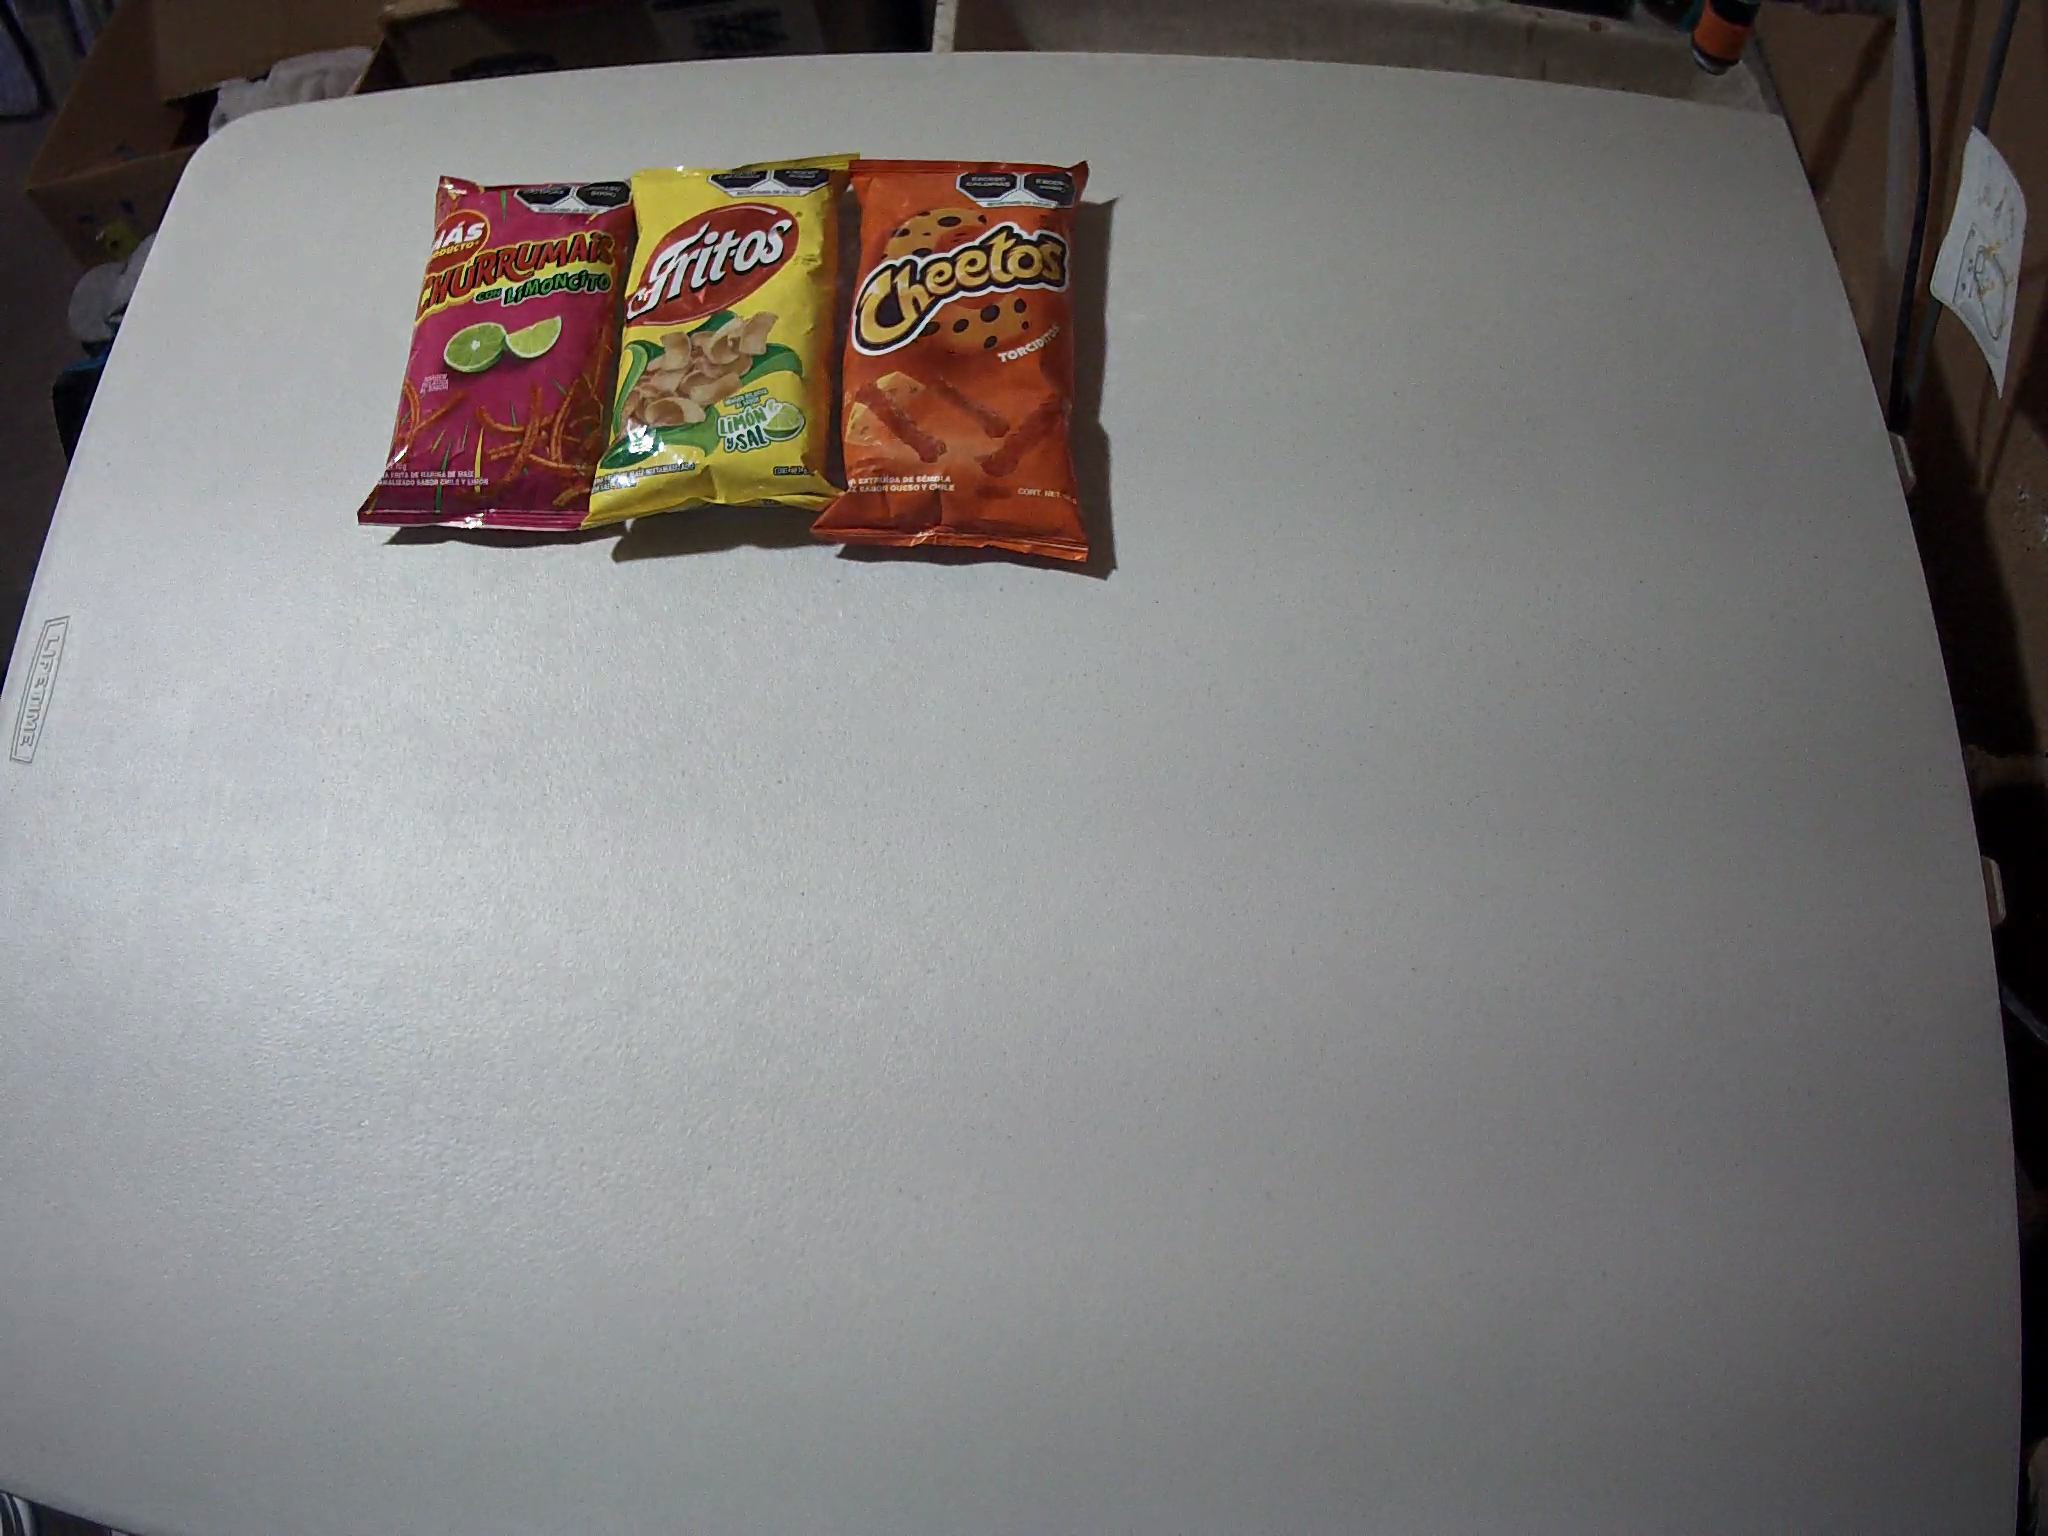CheetosTorciditos_55_F: (810, 160, 1092, 561)
Churrumais_70_F: (360, 173, 651, 539)
FritosSalLimon_65_F: (579, 152, 848, 531)
